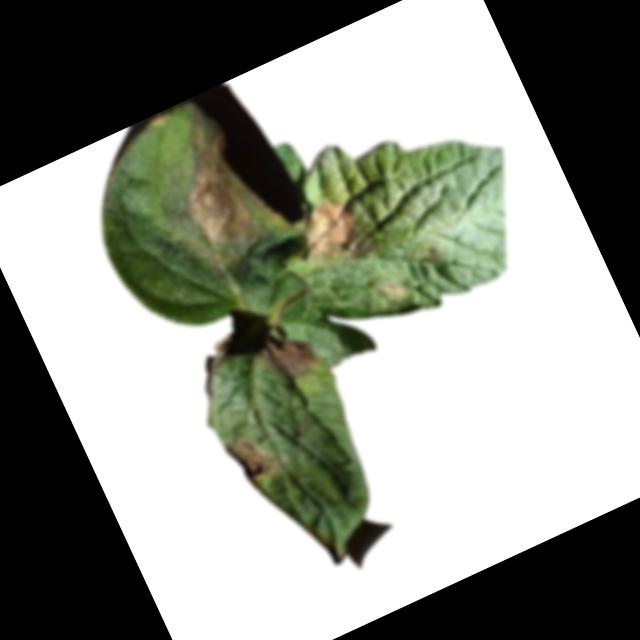Late_blight: (162, 136, 264, 264), (287, 189, 369, 274), (222, 423, 286, 492), (186, 335, 248, 401), (256, 323, 319, 386), (379, 273, 410, 304)
